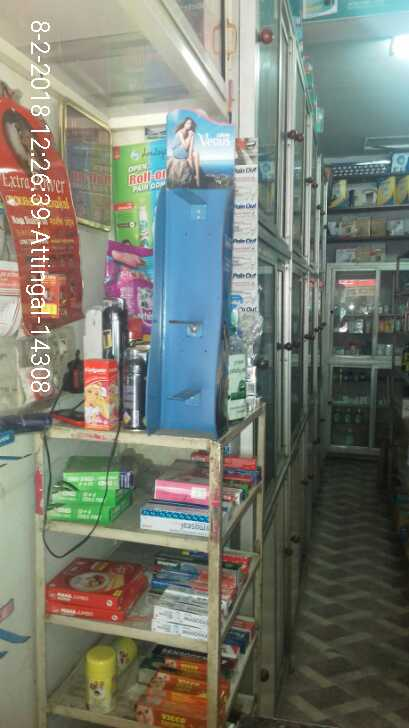reject: (155, 127, 276, 198)
